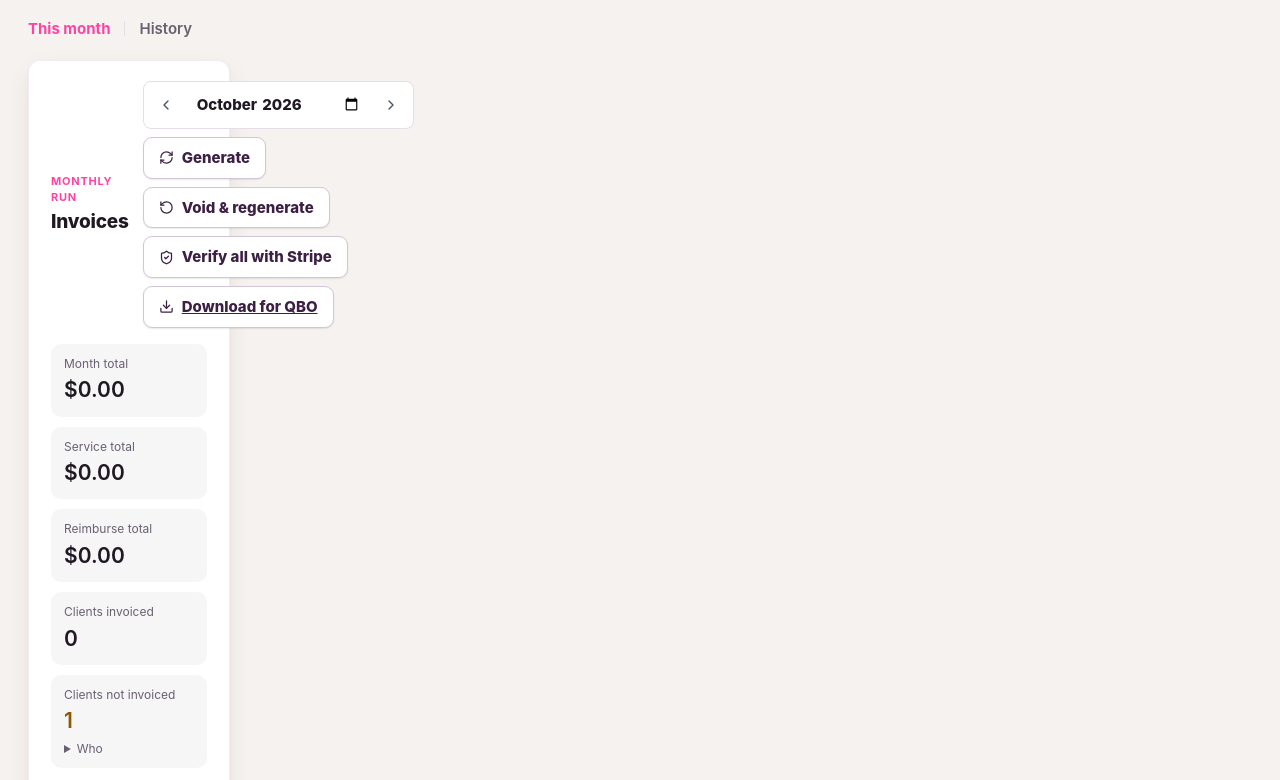
Print invoice asks which month › opens on the month the month run is showing and names what will print
Click the button named "Previous month": (166, 105) [154,93,178,117]
(page scrolled)
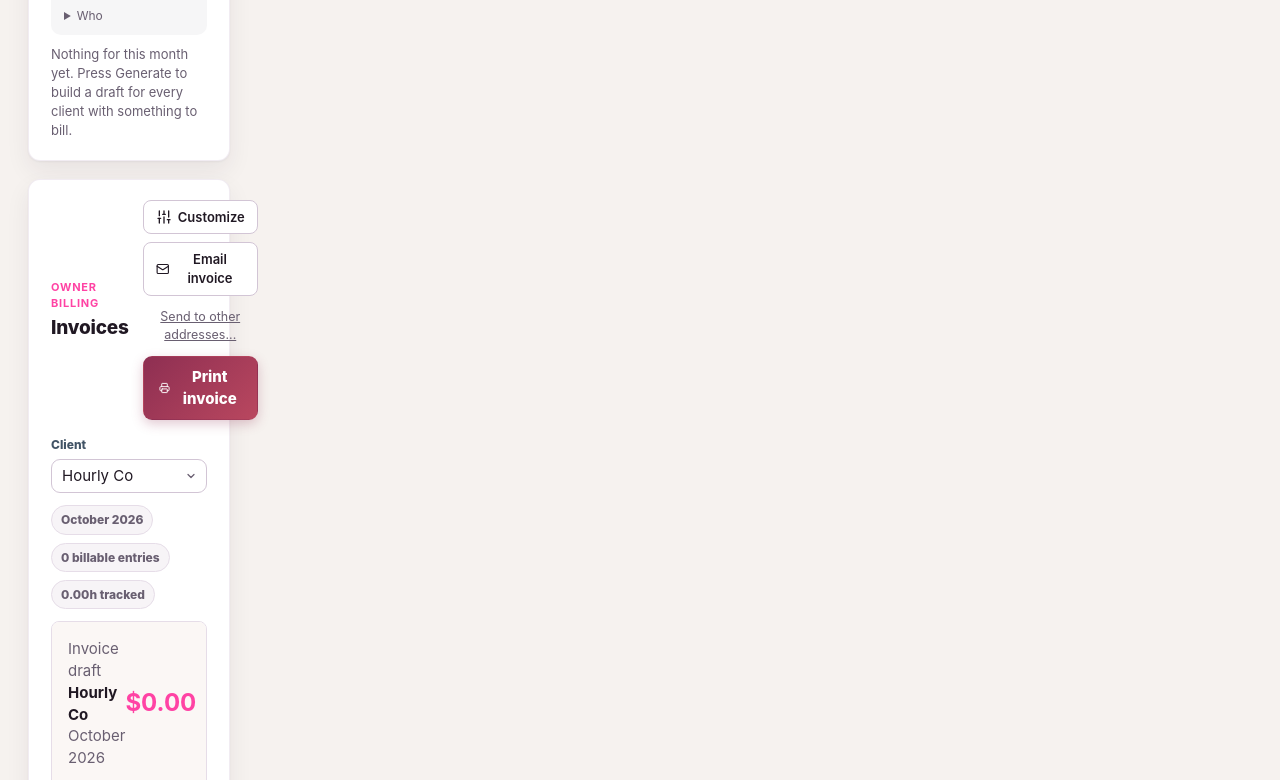
Click the button "Print invoice": (200, 388) [143,356,258,420]
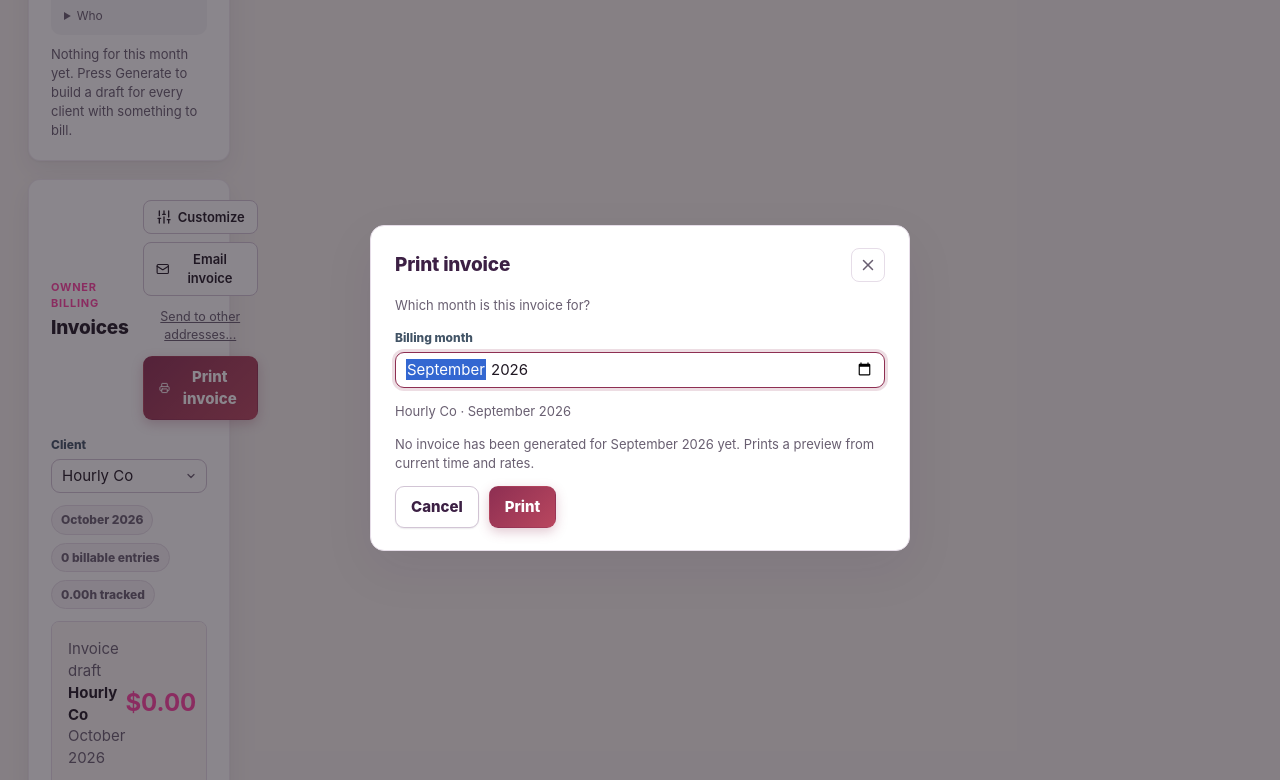
Now the field labelled "Billing month" holds "2026-09"
Now the text "Hourly Co · September 2026" is shown, box [395,403,571,419]
Replace the text in the field labelled "Billing month" with "2026-08": (640, 370) [395,352,885,388]
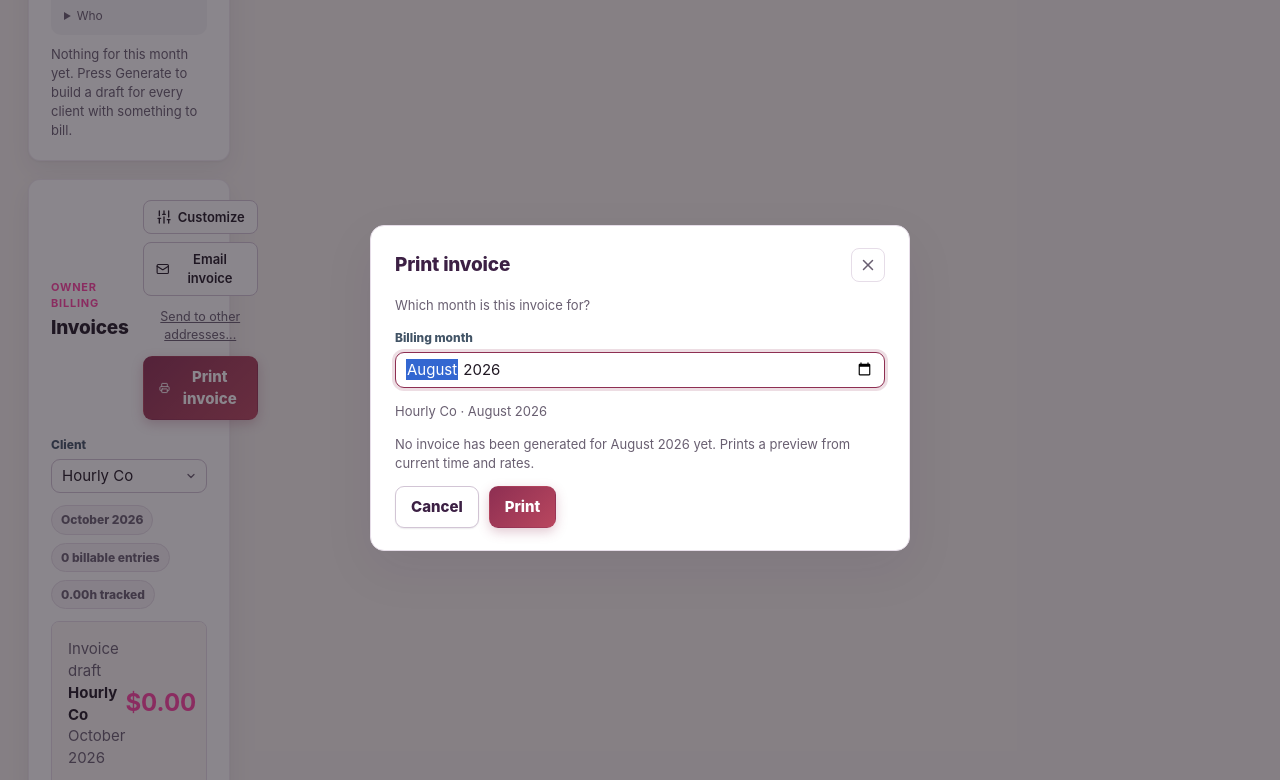
Now the text "Hourly Co · August 2026" is shown, box [395,403,547,419]
